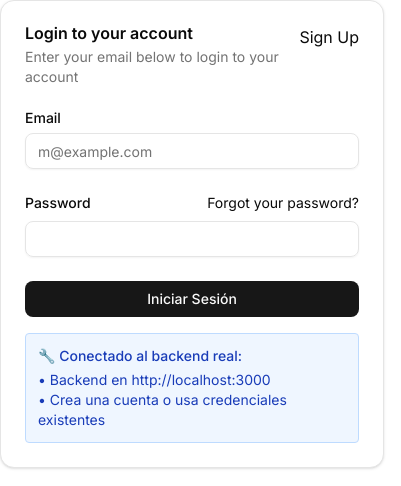
it: CardDemo (LoginComponent) › shows loading state during submission
Type "test@example.com" into the field labelled "Email" at (192, 151), box [25,133,359,169]
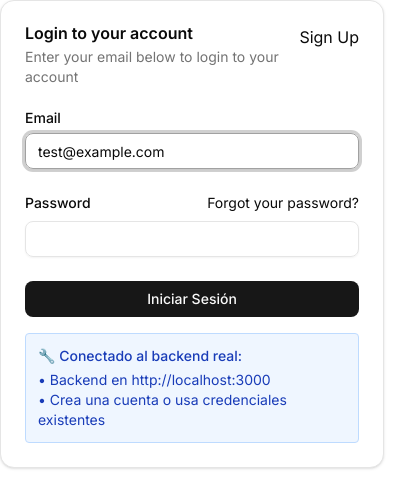
Type "password123" into the password field labelled "Password" at (192, 239), box [25,221,359,257]
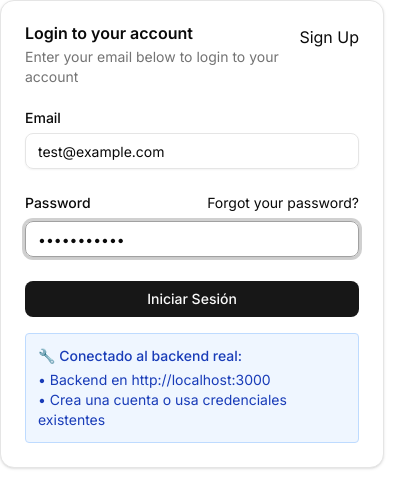
Click the button "Iniciar Sesión" at (192, 299), box [25,281,359,317]
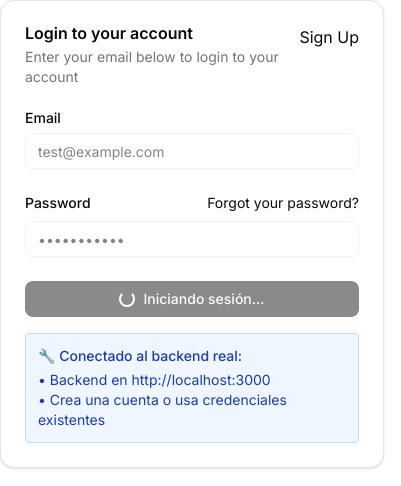
Result: the text "Iniciando sesión..." is shown at [120,289,264,309]
Result: the button named "iniciar sesión" is disabled at [25,281,359,317]
